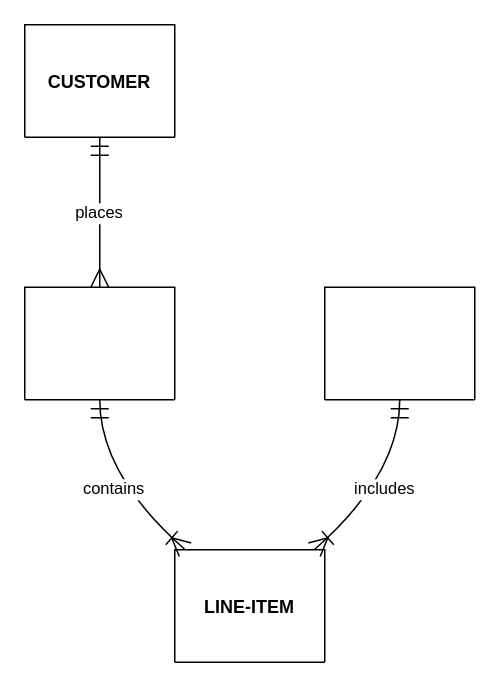
This 500x687 diagram has some shape labels left out. Each missing label, with the centre of its shape:
"ORDER" goes at (x=99, y=343).
"PRODUCT" goes at (x=399, y=343).
